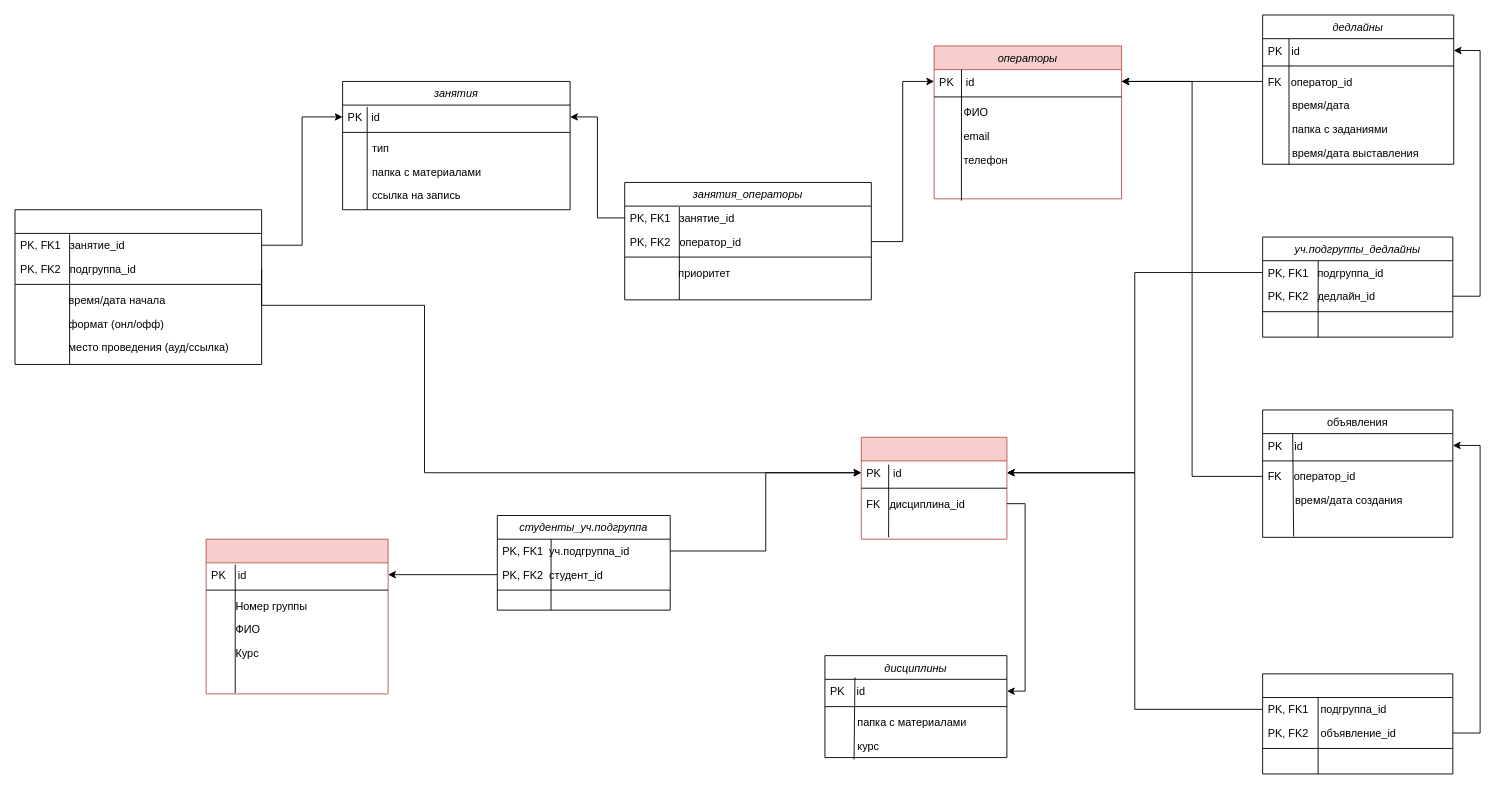
Some shapes in this 1495 by 789 pixel diagram are drawn without their labels. Each missing label, with the box of its shape:
студенты: (205, 538, 388, 694)
уч.подгруппы_занятия: (14, 209, 262, 364)
уч.подгруппы_объявления: (1262, 673, 1453, 774)
Учебные подгруппы: (860, 436, 1007, 539)
